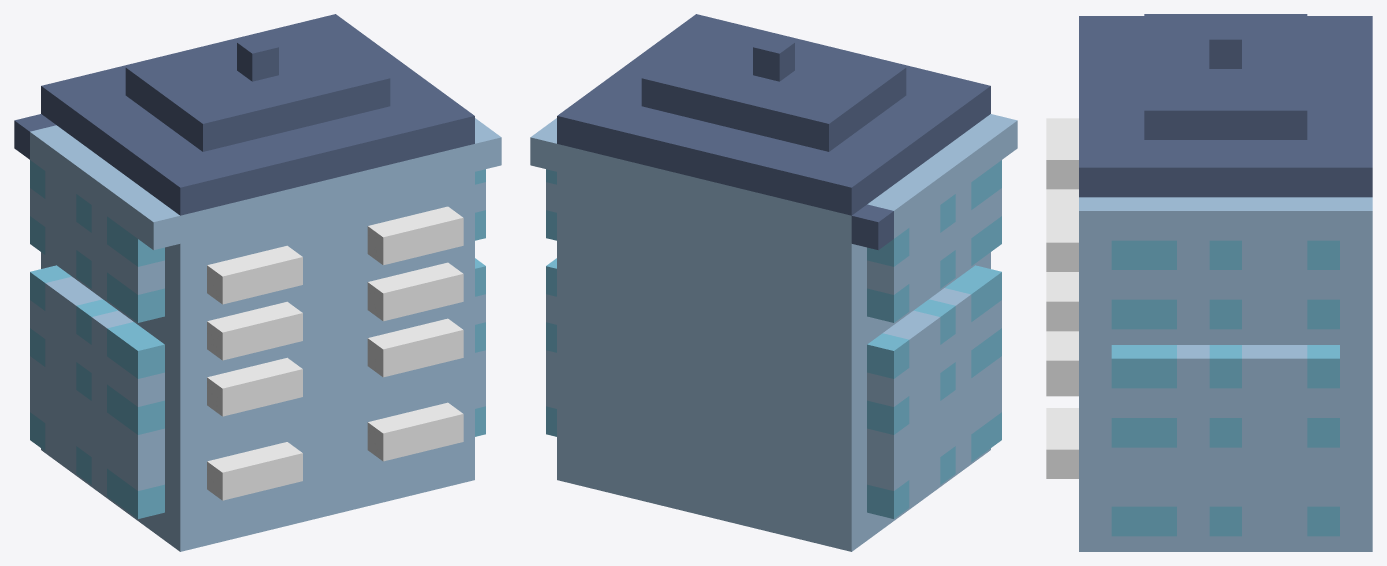
File: apartment_2.glb
3 renders of one model, left to right at view 1: azimuth 30°, elevation 25°; view 2: azimuth 150°, elevation 25°; view 3: azimuth 270°, elevation 25°, orthographic. The views are drawn at different scales.
Visible parts, largest first — view 1: apartment_2_wall_blue, apartment_2_roof_slate, apartment_2_white, apartment_2_window; view 2: apartment_2_wall_blue, apartment_2_roof_slate, apartment_2_window; view 3: apartment_2_wall_blue, apartment_2_roof_slate, apartment_2_window, apartment_2_white.
Part boxes in pixels (x1,y1,x2,y2): apartment_2_wall_blue: (30,118,501,551); apartment_2_roof_slate: (14,14,474,215); apartment_2_white: (207,206,463,500); apartment_2_window: (30,160,485,518); apartment_2_wall_blue: (530,114,1017,551); apartment_2_roof_slate: (557,14,990,250); apartment_2_window: (546,160,1001,518); apartment_2_wall_blue: (1079,197,1372,551); apartment_2_roof_slate: (1079,14,1372,197); apartment_2_window: (1111,240,1339,536); apartment_2_white: (1046,118,1078,478).
Bounding box in the file's own units: 17.88 × 20.62 × 13.75.
